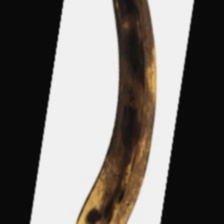banana: (38, 37, 217, 183)
